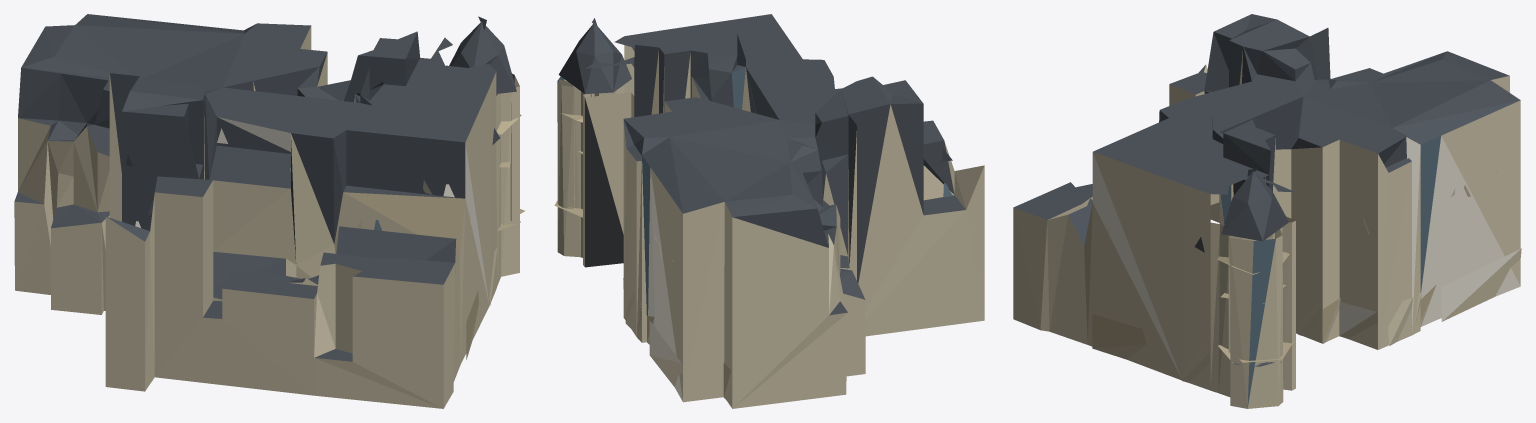
File: victoria-hotel.lod2.glb
3 views of the same model, side by side, from view 1: azimuth 30°, elevation 25°; view 2: azimuth 150°, elevation 25°; view 3: azimuth 270°, elevation 25° (orthographic). The views are drawn at different scales.
Parts seen in each view (by area): view 1: lod2; view 2: lod2; view 3: lod2.
Boxes of the visible parts, box(x1,y1,x2,y2) form: lod2: box(14, 14, 524, 408); lod2: box(554, 14, 984, 408); lod2: box(1013, 14, 1521, 408).
Size of the model in its own units: 53.8 by 29.47 by 59.72.
